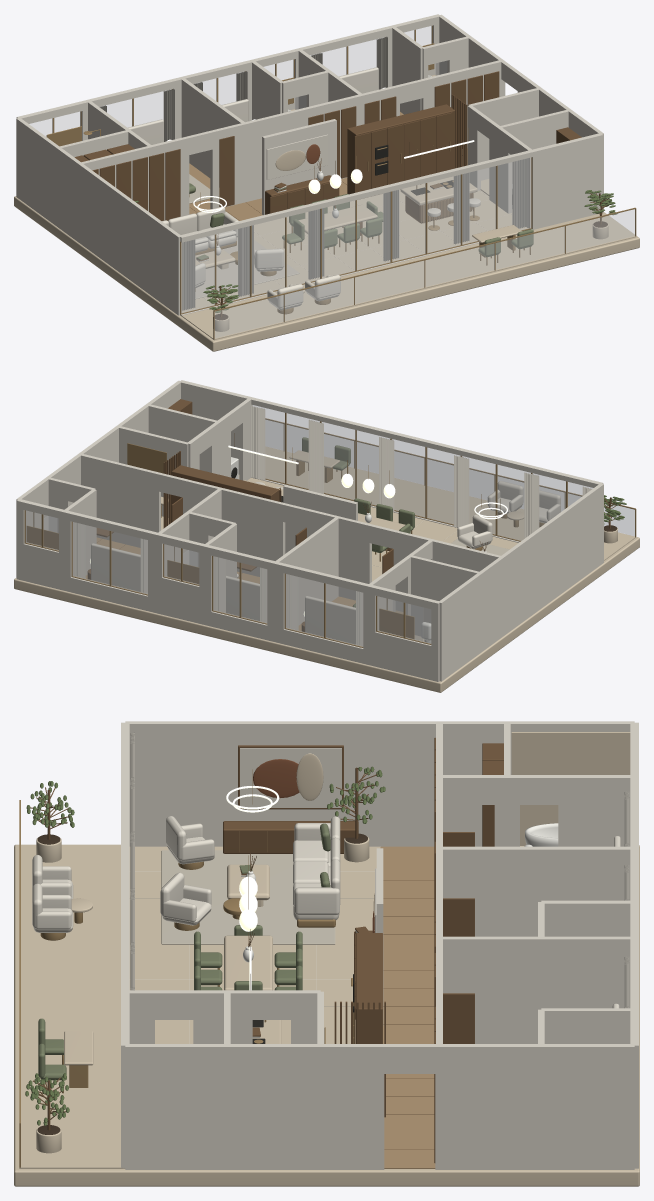
The model's file is apartment.glb.
3 views of the same model, one above another, from view 1: azimuth 30°, elevation 25°; view 2: azimuth 150°, elevation 25°; view 3: azimuth 270°, elevation 25° (orthographic). The views are drawn at different scales.
Parts seen in each view (by area): view 1: Wall_west, Terrace_glass_guard, Terrace_limestone, Stone_public_floor, Floating_foundation, Wall_service_south, Glass_south.003, Glass_south.002, Glass_south.001, Glass_south, Glass_south.004, Wall_private_gallery.001 (+69 smaller); view 2: Wall_west, Floating_foundation, Terrace_limestone, Terrace_glass_guard, Wall_private_gallery.003, Wall_private_gallery.002, Glass_north.001, Glass_north.004, Glass_south.002, Glass_south.003, Glass_south.001, Wall_suite_partition (+68 smaller); view 3: Wall_east, Wall_west, Wall_east.001, Terrace_limestone, Wall_suite_partition.001, Oak_private_floor, Stone_public_floor, Floating_foundation, Wall_suite_partition, Salon_wool_rug, Bath_wall_travertine, Wall_primary_dressing.002 (+31 smaller).
Part boxes in pixels (<box>): Wall_west: <box>16,118,182,315</box>; Terrace_glass_guard: <box>215,209,634,337</box>; Terrace_limestone: <box>180,213,635,340</box>; Stone_public_floor: <box>182,190,527,311</box>; Floating_foundation: <box>14,196,639,351</box>; Wall_service_south: <box>531,133,603,229</box>; Glass_south.003: <box>392,175,460,261</box>; Glass_south.002: <box>322,192,390,277</box>; Glass_south.001: <box>252,209,320,295</box>; Glass_south: <box>181,226,249,312</box>; Glass_south.004: <box>462,158,530,244</box>; Wall_private_gallery.001: <box>210,115,275,208</box>; Wall_west: <box>439,483,603,681</box>; Floating_foundation: <box>14,446,639,692</box>; Terrace_limestone: <box>265,447,635,560</box>; Terrace_glass_guard: <box>265,420,634,536</box>; Wall_private_gallery.003: <box>80,453,160,547</box>; Wall_private_gallery.002: <box>182,478,285,576</box>; Glass_north.001: <box>286,574,362,646</box>; Glass_north.004: <box>72,522,147,594</box>; Glass_south.002: <box>392,439,460,524</box>; Glass_south.003: <box>321,422,389,505</box>; Glass_south.001: <box>462,456,530,540</box>; Wall_suite_partition: <box>274,517,338,627</box>; Wall_east: <box>125,1044,384,1169</box>; Wall_west: <box>125,721,634,846</box>; Wall_east.001: <box>435,1044,634,1169</box>; Terrace_limestone: <box>19,845,125,1168</box>; Wall_suite_partition.001: <box>439,936,634,1043</box>; Oak_private_floor: <box>380,846,435,1168</box>; Stone_public_floor: <box>129,846,379,1043</box>; Floating_foundation: <box>14,844,639,1186</box>; Wall_suite_partition: <box>439,846,634,936</box>; Salon_wool_rug: <box>161,850,335,944</box>; Bath_wall_travertine: <box>511,732,630,845</box>; Wall_primary_dressing.002: <box>558,775,634,846</box>.
Size of the model in its own units: 18.25 by 3.63 by 14.75.
